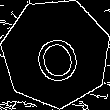O_N: (28, 22, 84, 84)
